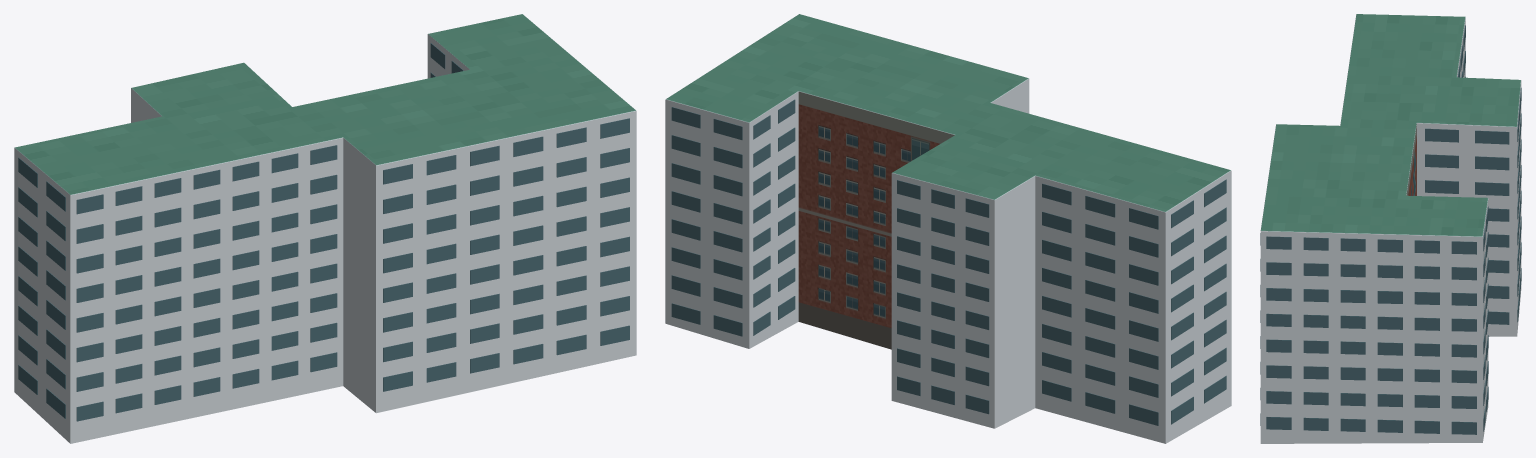
File: intact.glb
3 views of the same model, side by side, from view 1: azimuth 30°, elevation 25°; view 2: azimuth 150°, elevation 25°; view 3: azimuth 270°, elevation 25° (orthographic). The views are drawn at different scales.
Visible parts, largest first — view 1: SM_faculty_Intact_00, SM_faculty_Intact_01; view 2: SM_faculty_Intact_00, SM_faculty_Intact_01; view 3: SM_faculty_Intact_00, SM_faculty_Intact_01.
Part boxes in pixels (bbox=[...]): SM_faculty_Intact_00: bbox=[14, 14, 636, 443]; SM_faculty_Intact_01: bbox=[18, 43, 629, 421]; SM_faculty_Intact_00: bbox=[665, 14, 1231, 443]; SM_faculty_Intact_01: bbox=[671, 99, 1226, 425]; SM_faculty_Intact_00: bbox=[1260, 14, 1521, 443]; SM_faculty_Intact_01: bbox=[1260, 25, 1521, 434].
Size of the model in its own units: 2.2 by 0.9969 by 1.09.
Materials: 5 (2 with a texture image).
